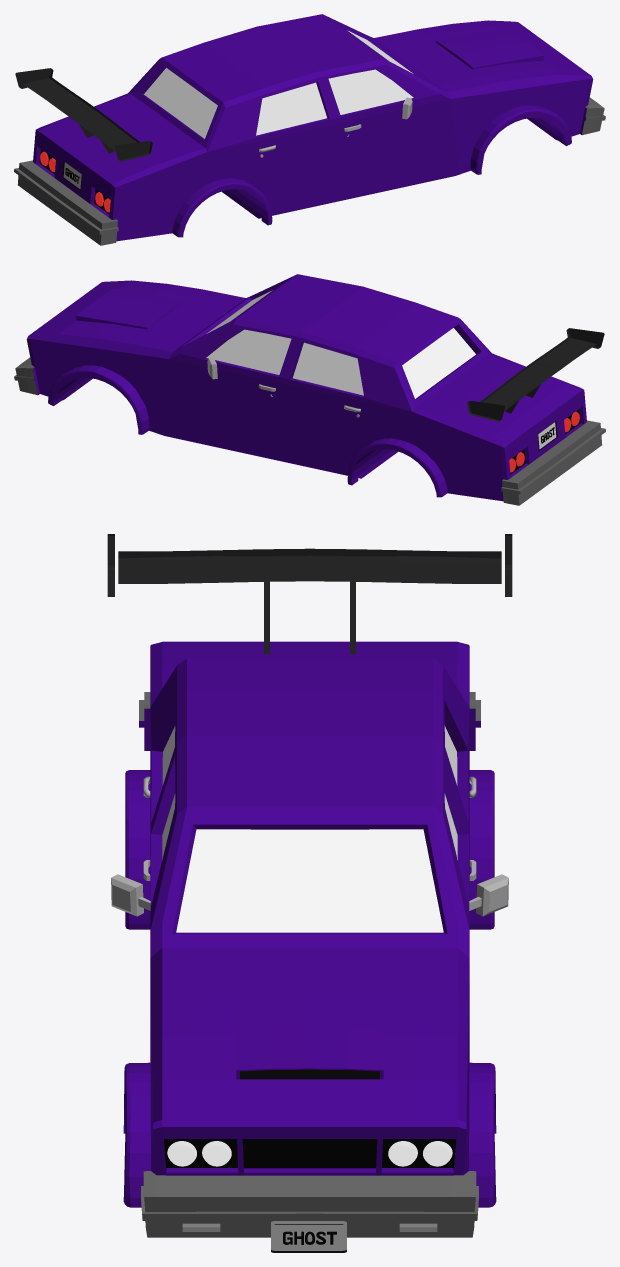
File: malibu.glb
3 views of the same model, one above another, from view 1: azimuth 30°, elevation 25°; view 2: azimuth 150°, elevation 25°; view 3: azimuth 270°, elevation 25° (orthographic). The views are drawn at different scales.
Parts seen in each view (by area): view 1: Circle.006; view 2: Circle.006; view 3: Circle.006.
Boxes of the visible parts, <box> form: Circle.006: <box>14,14,605,245</box>; Circle.006: <box>14,274,605,505</box>; Circle.006: <box>107,534,512,1252</box>.
Bounding box in the file's own units: 13.26 × 3.29 × 4.58.
